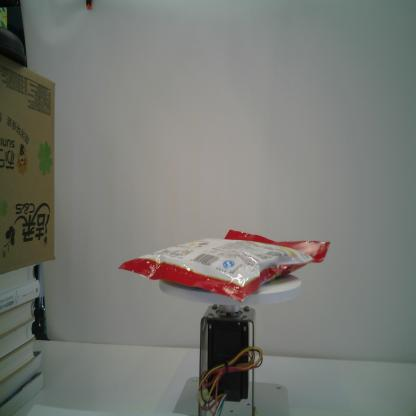Instant Drink: (117, 226, 332, 306)
